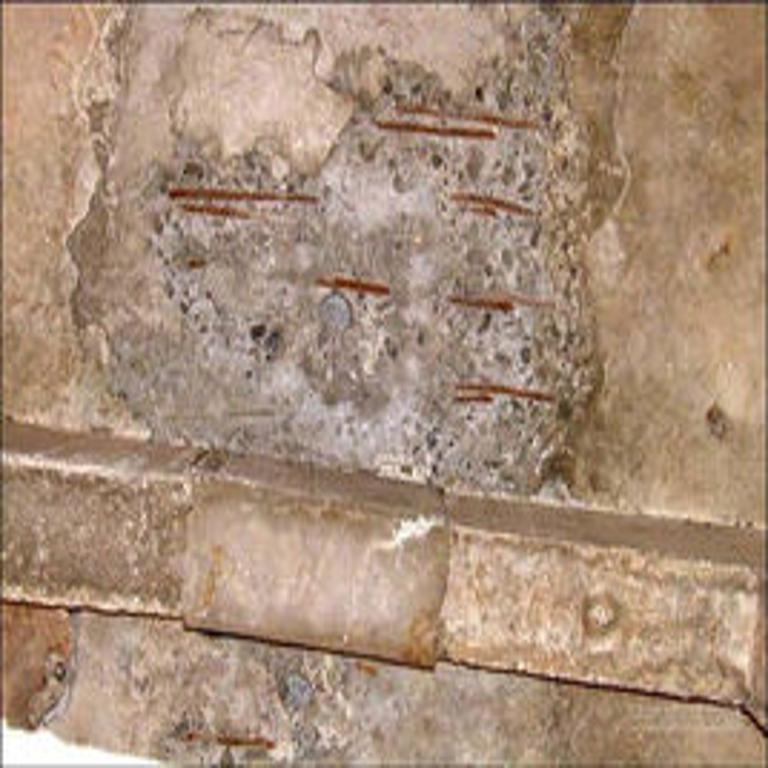spalling: (68, 9, 627, 492)
